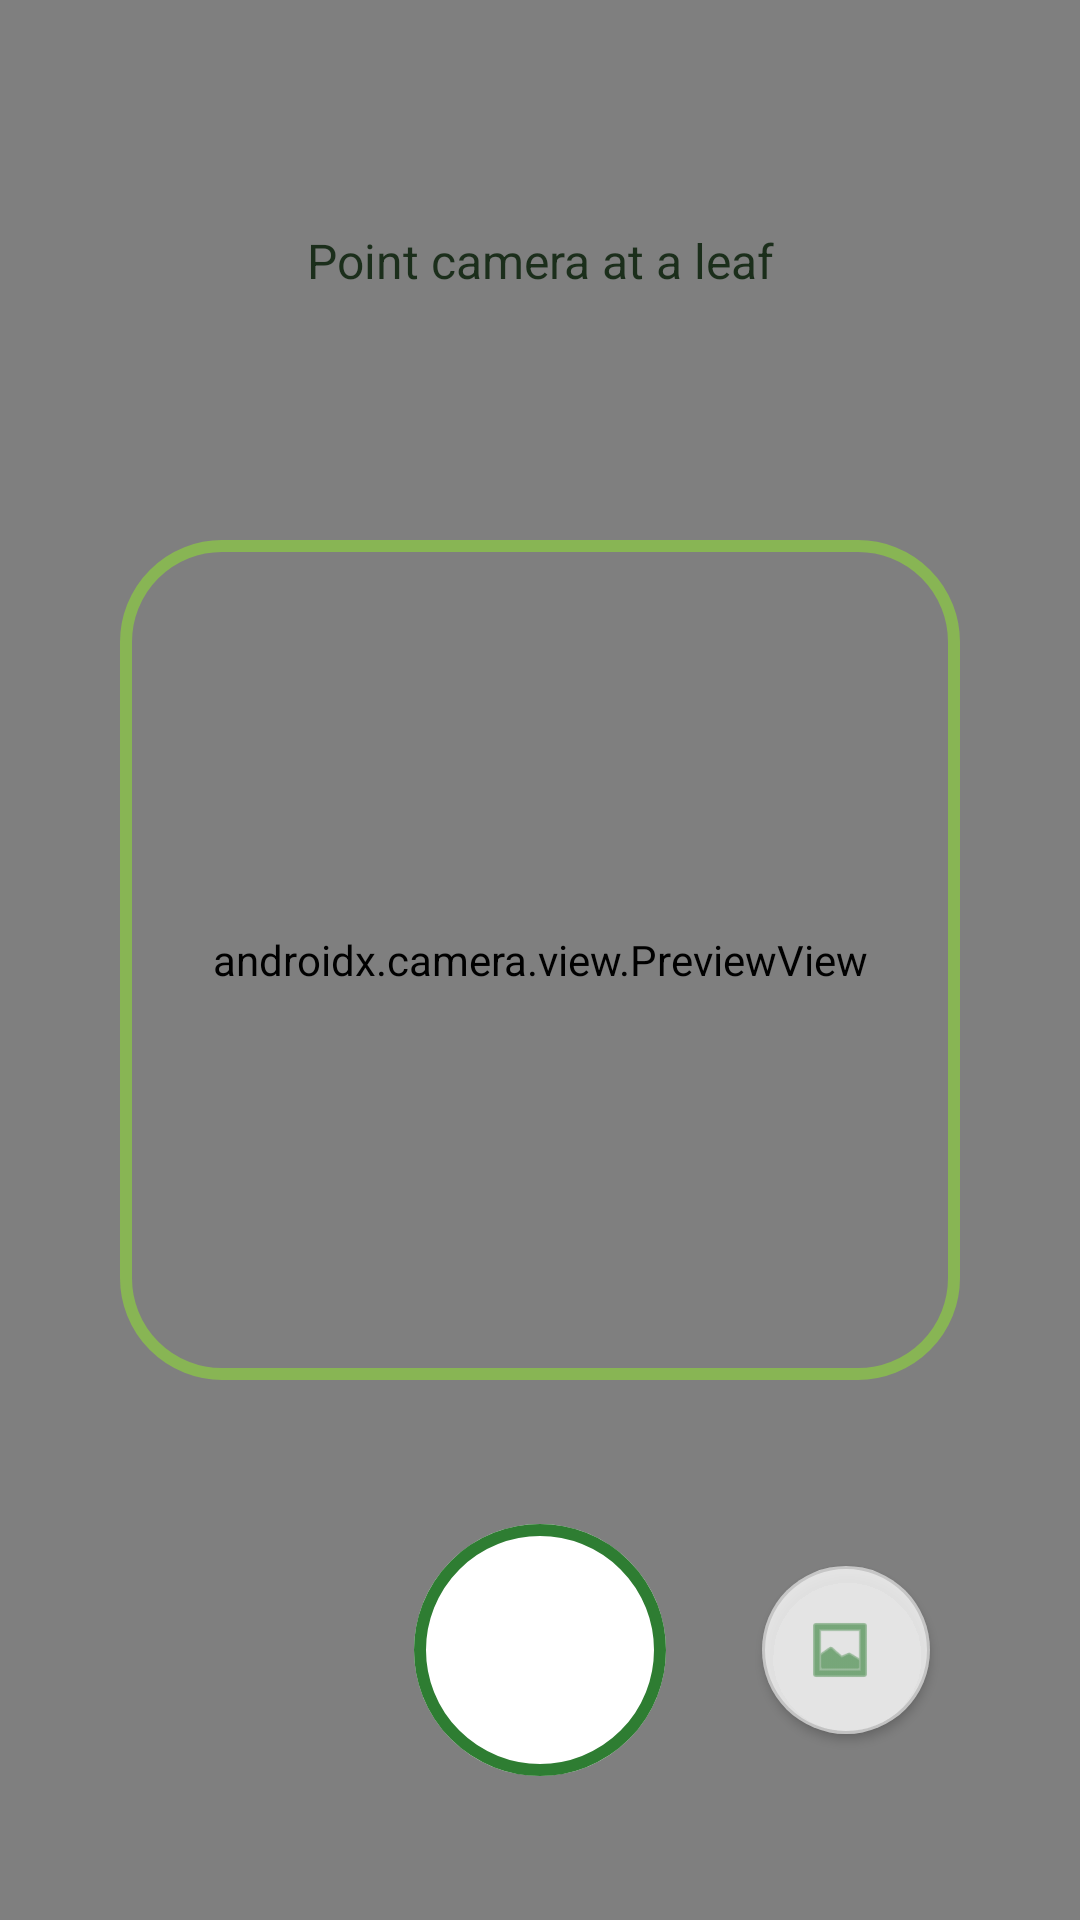

Locate icon controls on the screen. Image size 1080px×1920px, boxes as bbox(x1, y1, x2, y2).
gallery: bbox(762, 1566, 930, 1734)
